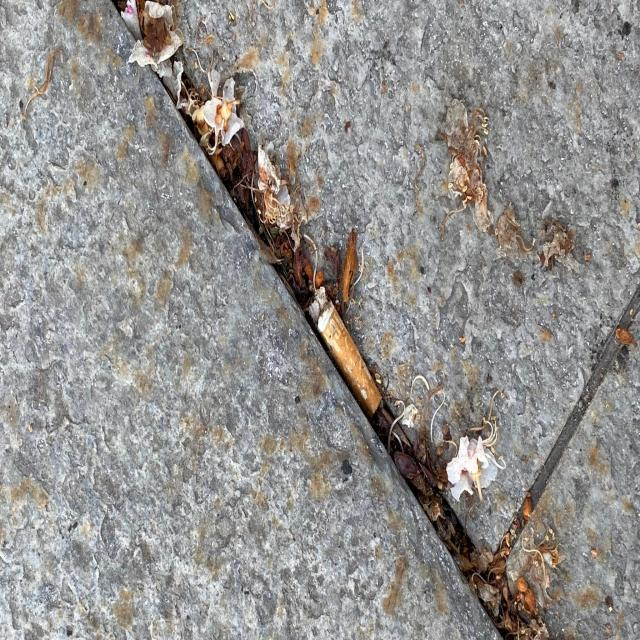other waste: (308, 286, 382, 422)
